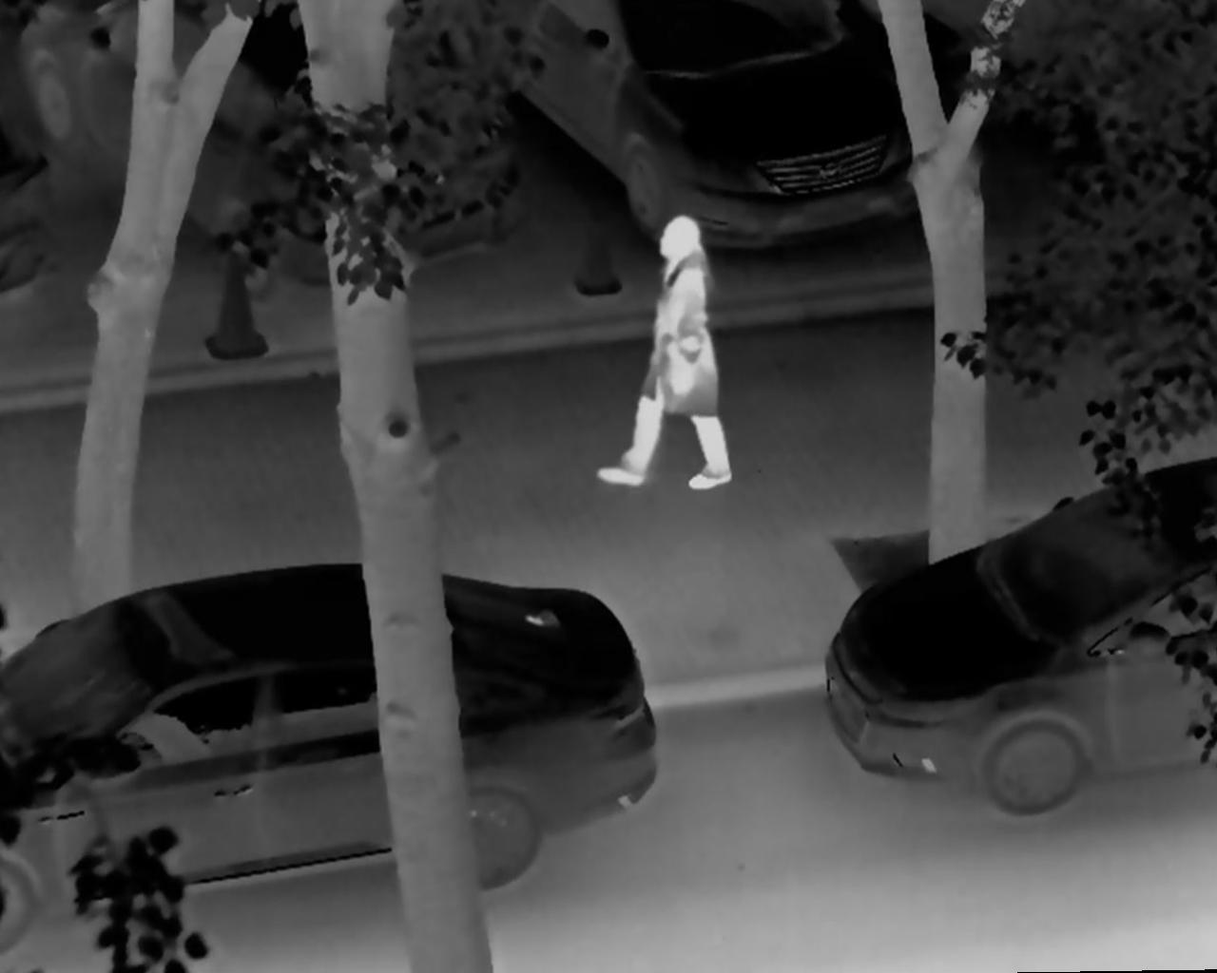person: (595, 216, 735, 495)
